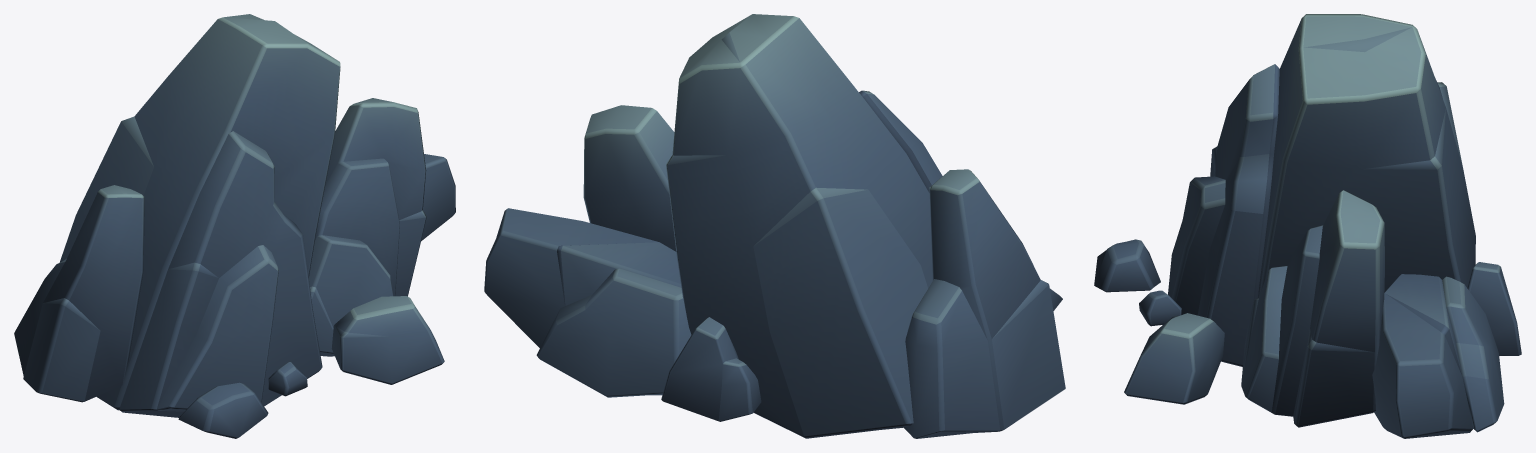
The model's file is bigrocks.glb.
3 renders of one model, left to right at view 1: azimuth 30°, elevation 25°; view 2: azimuth 150°, elevation 25°; view 3: azimuth 270°, elevation 25°, orthographic. The views are drawn at different scales.
Visible parts, largest first — view 1: rock_arrangement_large; view 2: rock_arrangement_large; view 3: rock_arrangement_large.
Boxes of the visible parts, left/top/right/bottom form: rock_arrangement_large: left=14, top=14, right=455, bottom=438; rock_arrangement_large: left=484, top=14, right=1065, bottom=438; rock_arrangement_large: left=1094, top=14, right=1521, bottom=438.
Size of what is drawn, in the model's own units: 15.99 by 10.77 by 11.07.
Materials: 1 (1 with a texture image).
